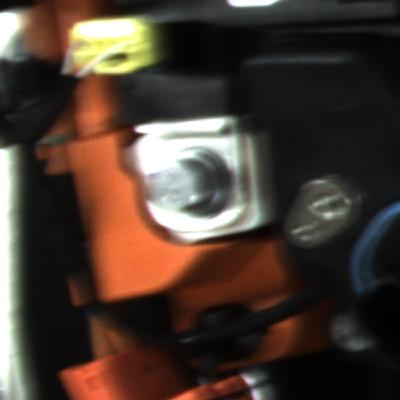nut_b: (139, 144, 240, 223)
